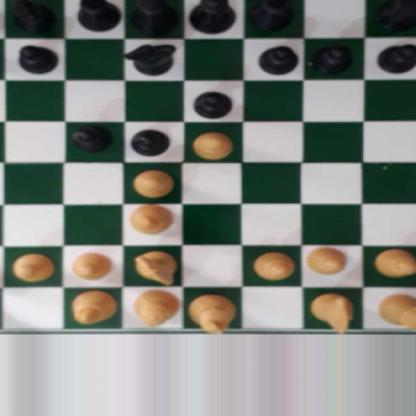black-bishop: (74, 0, 121, 32), (249, 0, 296, 29)
black-king: (186, 0, 235, 34)
black-knight: (122, 43, 175, 73), (7, 0, 54, 32)
black-pawn: (254, 43, 295, 74), (190, 89, 232, 119), (14, 43, 54, 74), (68, 123, 112, 151), (310, 43, 351, 73), (375, 43, 416, 72), (127, 127, 168, 156)
black-queen: (131, 0, 177, 36)
black-rook: (373, 0, 416, 33)
white-bishop: (70, 287, 114, 323), (128, 203, 173, 234)
white-king: (189, 290, 231, 332)
white-knight: (309, 290, 352, 332), (131, 250, 177, 285)
white-pawn: (373, 247, 416, 277), (249, 249, 293, 278), (302, 245, 344, 275), (11, 253, 54, 282), (68, 250, 111, 279), (131, 166, 174, 195), (189, 129, 231, 157)
white-queen: (132, 288, 179, 328)
white-rook: (375, 292, 416, 330)
